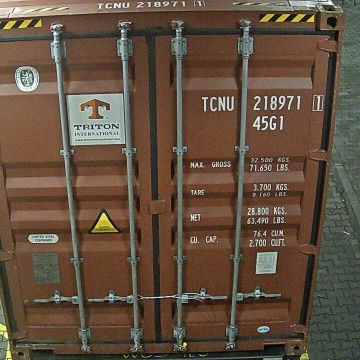serial_id: (200, 95, 322, 111)
